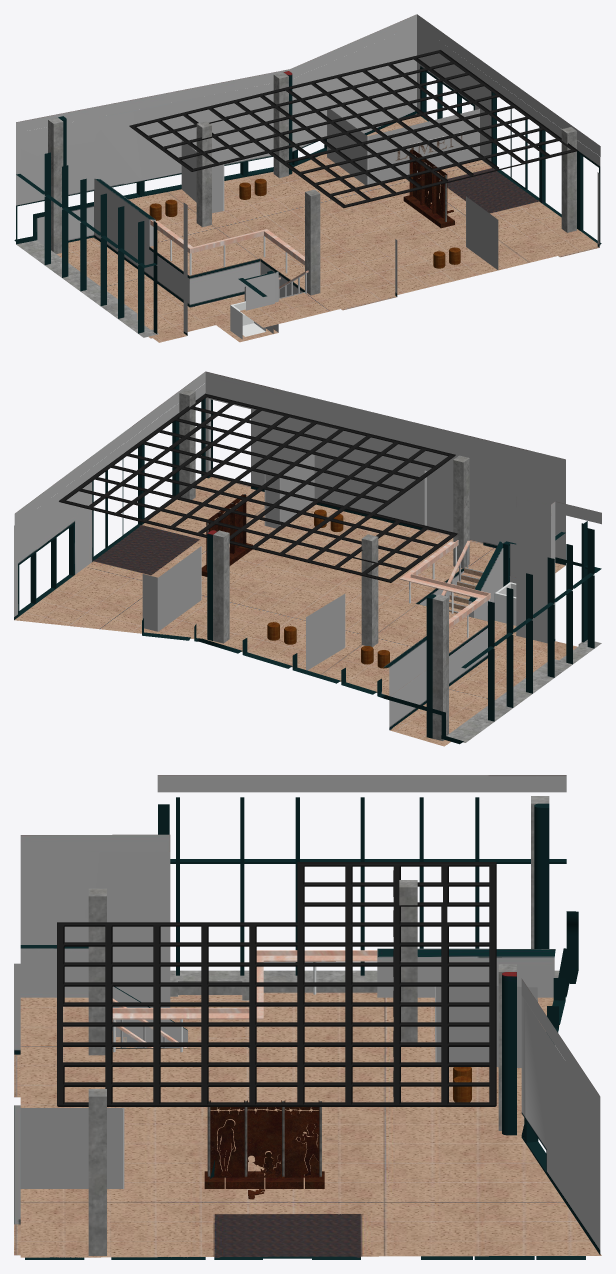
File: exhibition_space_6.glb
The picture shows the model from 3 angles, top to bottom: view 1: azimuth 30°, elevation 25°; view 2: azimuth 150°, elevation 25°; view 3: azimuth 270°, elevation 25°; orthographic projection. The views are drawn at different scales.
Visible parts, largest first — view 1: exhibitionSpace_geo, exhibitionSpace_geo.001, scaffolding_geo, decor_geo, artwork_geo; view 2: exhibitionSpace_geo, exhibitionSpace_geo.001, scaffolding_geo, decor_geo, artwork_geo; view 3: exhibitionSpace_geo, exhibitionSpace_geo.001, scaffolding_geo, decor_geo, artwork_geo.
Boxes of the visible parts, box(x1,y1,x2,y2) form: exhibitionSpace_geo: box(14, 14, 601, 339); exhibitionSpace_geo.001: box(56, 113, 597, 342); scaffolding_geo: box(129, 50, 577, 208); decor_geo: box(149, 109, 498, 269); artwork_geo: box(403, 149, 454, 228); exhibitionSpace_geo: box(14, 371, 601, 744); exhibitionSpace_geo.001: box(14, 478, 577, 746); scaffolding_geo: box(59, 393, 457, 582); decor_geo: box(142, 454, 389, 670); artwork_geo: box(201, 494, 252, 576); exhibitionSpace_geo: box(14, 775, 600, 1259); exhibitionSpace_geo.001: box(14, 992, 601, 1257); scaffolding_geo: box(57, 862, 496, 1106); decor_geo: box(20, 986, 537, 1188); artwork_geo: box(204, 1100, 324, 1199).
Size of what is drawn, in the model's own units: 20 by 6 by 15.27.
Materials: 5 (4 with a texture image).
